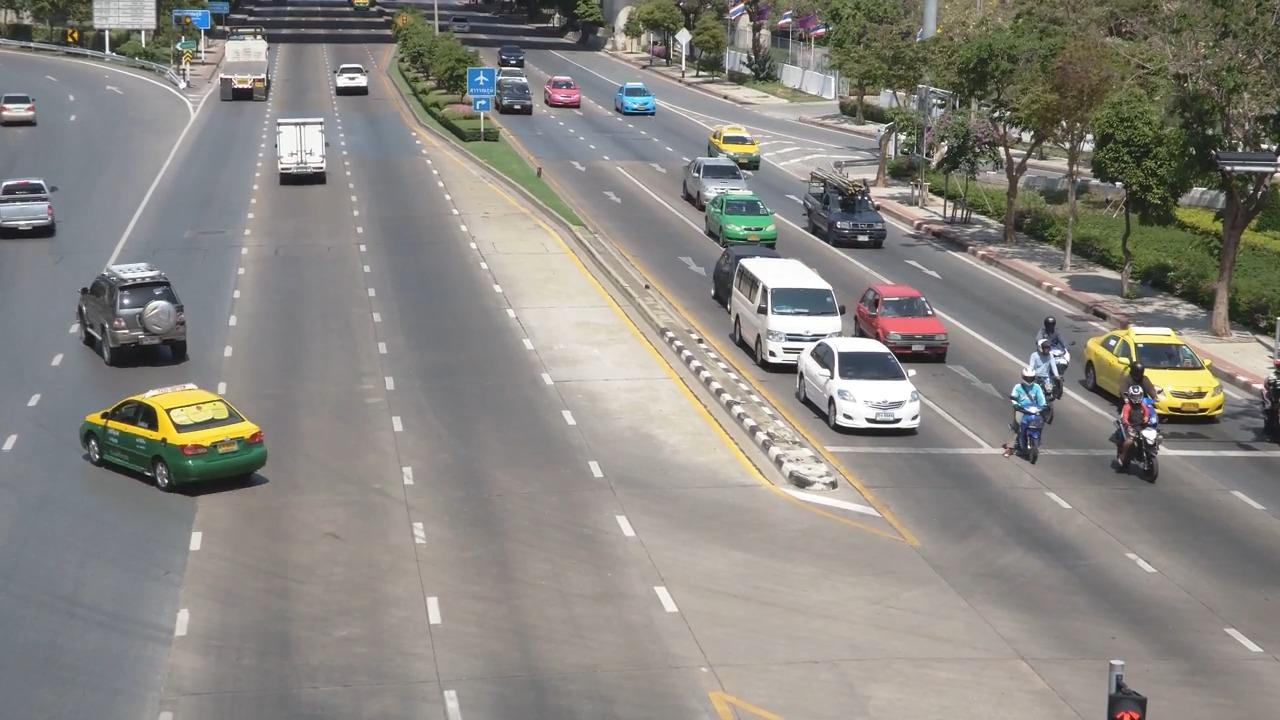CAR: (76, 376, 283, 504), (1084, 310, 1228, 425), (69, 261, 205, 373), (796, 332, 934, 439), (733, 252, 846, 372), (859, 269, 960, 365), (797, 167, 886, 248), (265, 108, 341, 192), (696, 186, 782, 248), (0, 173, 69, 249), (682, 154, 750, 209), (322, 55, 386, 106), (696, 124, 770, 168), (607, 75, 664, 124), (486, 64, 533, 119), (535, 74, 590, 119), (0, 89, 47, 138), (483, 33, 524, 65)
HGV_BUS: (207, 24, 278, 111)
MOTOR: (1103, 382, 1169, 482), (997, 367, 1059, 454), (1019, 337, 1058, 398), (1035, 298, 1065, 359)
